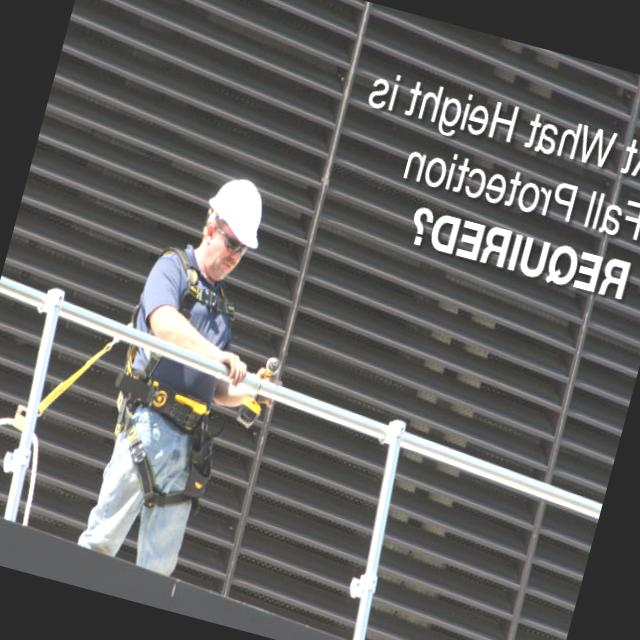goggles: (192, 222, 259, 264)
helmet: (192, 166, 278, 250)
no-vest: (103, 261, 244, 436)
